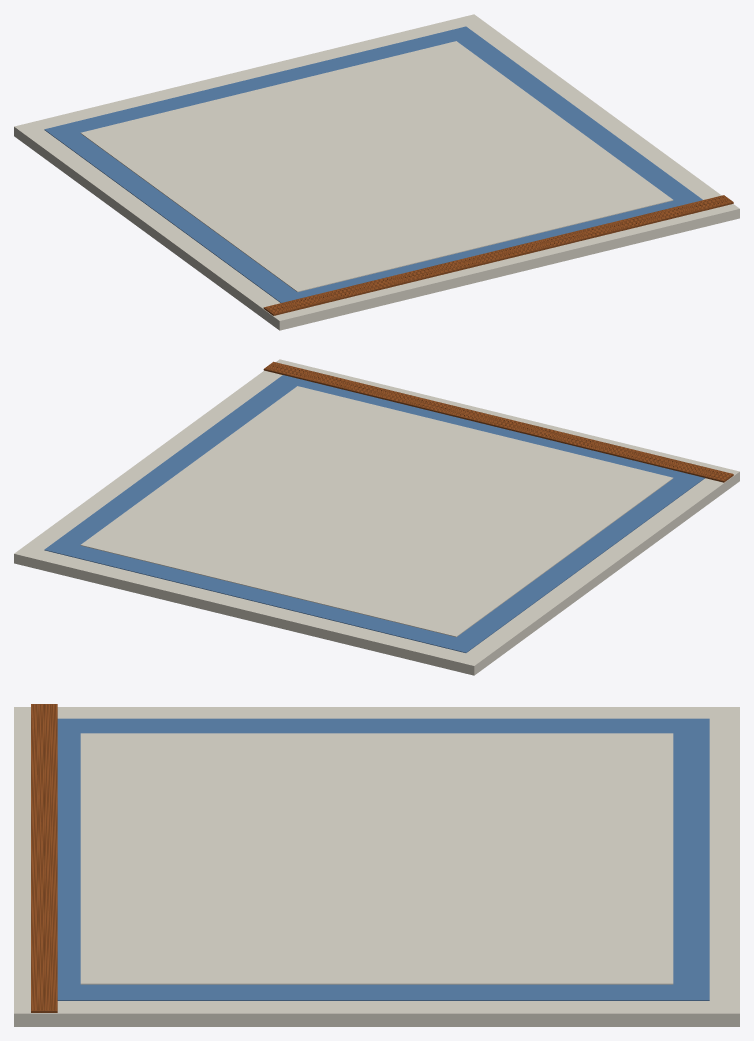
Rendered from cruise-ship-deck-and-lounge-cruise-ship-deck-and-loung-83c3eff3__38409.glb.
3 views of the same model, one above another, from view 1: azimuth 30°, elevation 25°; view 2: azimuth 150°, elevation 25°; view 3: azimuth 270°, elevation 25° (orthographic). The views are drawn at different scales.
Visible parts, largest first — view 1: cruise-ship-deck-and-lounge-lounge-floor-tile; view 2: cruise-ship-deck-and-lounge-lounge-floor-tile; view 3: cruise-ship-deck-and-lounge-lounge-floor-tile.
Boxes of the visible parts, x1=… form: cruise-ship-deck-and-lounge-lounge-floor-tile: x1=14, y1=14, x2=739, y2=330; cruise-ship-deck-and-lounge-lounge-floor-tile: x1=14, y1=359, x2=739, y2=675; cruise-ship-deck-and-lounge-lounge-floor-tile: x1=14, y1=704, x2=739, y2=1026.
Size of the model in its own units: 6 by 0.1459 by 6.
Materials: 3 (1 with a texture image).
